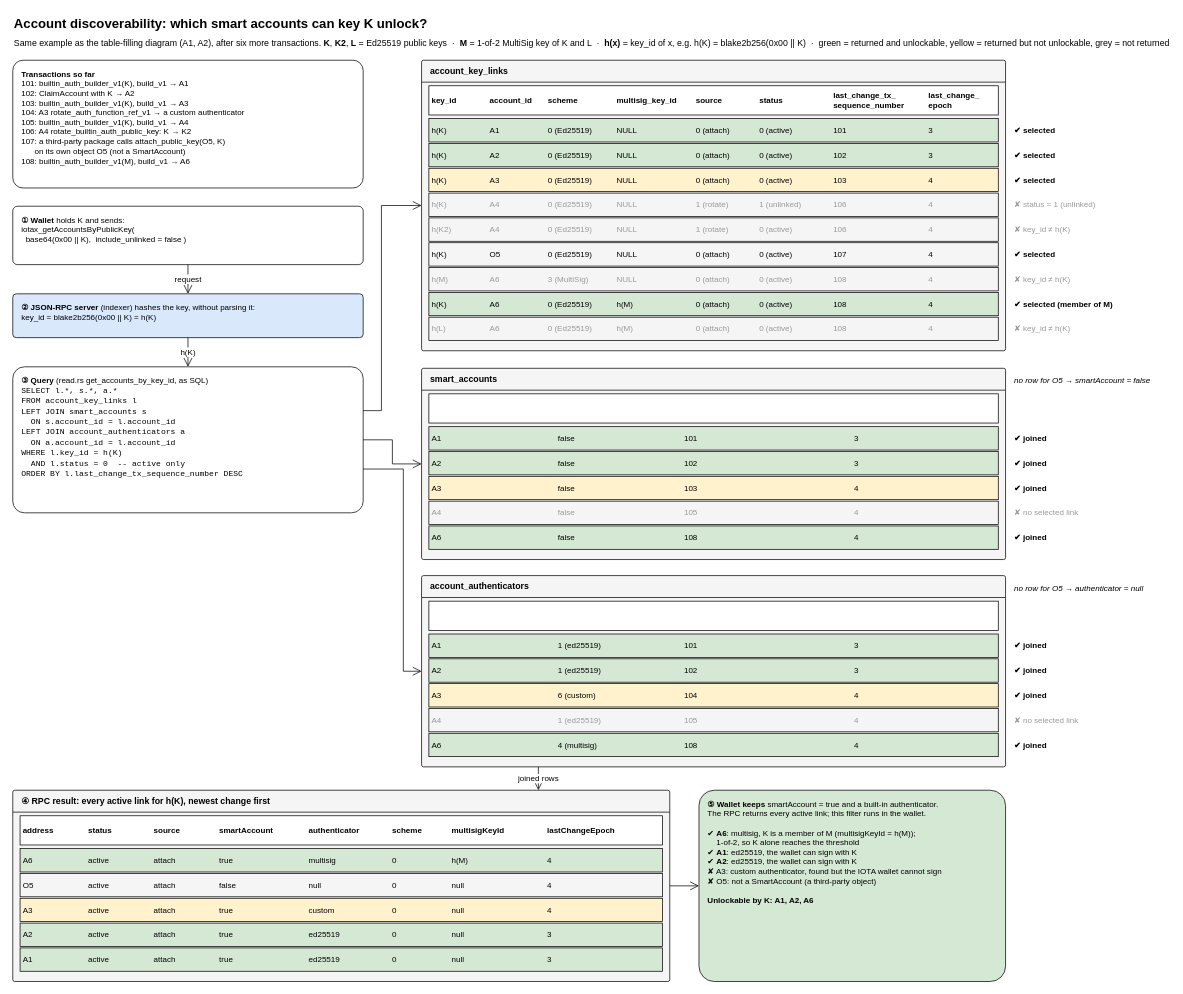
Image size: 1183x994. Some labels were removed from this diagram. The shapes that lost their labels are listed below. From the top down, each one's centre as x and y in pixels, then its label:
At (x=713, y=408): "account_id immutable created_tx_ sequence_number created_epoch".
At (x=713, y=615): "account_id kind last_change_tx_ sequence_number last_change_ epoch".
